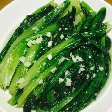youmaicai: (1, 1, 112, 112)
